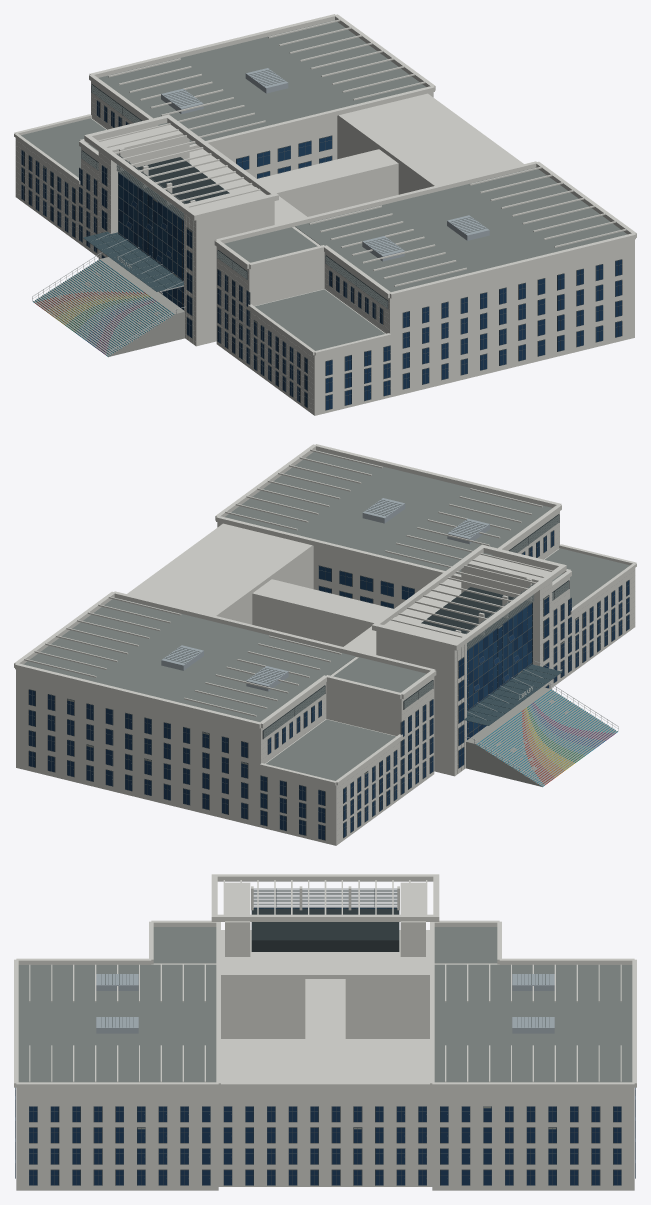
File: osm_way_223859810.glb
3 renders of one model, top to bottom at view 1: azimuth 30°, elevation 25°; view 2: azimuth 150°, elevation 25°; view 3: azimuth 270°, elevation 25°, orthographic. The views are drawn at different scales.
Parts seen in each view (by area): view 1: Library | stone wings and open crown, Library | blue curtain wall and opening lights, Library | 36 granite steps with painted risers, Library | continuous louvers frames and stone joints, EXTERIOR::osm_way_223859810::native pane seals and hardware; view 2: Library | stone wings and open crown, Library | blue curtain wall and opening lights, Library | 36 granite steps with painted risers, Library | continuous louvers frames and stone joints, EXTERIOR::osm_way_223859810::native pane seals and hardware; view 3: Library | stone wings and open crown, Library | blue curtain wall and opening lights, Library | continuous louvers frames and stone joints.
Boxes of the visible parts, x1,y1,x2,y2 form: Library | stone wings and open crown: [14, 14, 636, 415]; Library | blue curtain wall and opening lights: [21, 100, 622, 410]; Library | 36 granite steps with painted risers: [32, 252, 185, 357]; Library | continuous louvers frames and stone joints: [17, 84, 389, 402]; EXTERIOR::osm_way_223859810::native pane seals and hardware: [24, 156, 622, 405]; Library | stone wings and open crown: [14, 444, 636, 845]; Library | blue curtain wall and opening lights: [28, 530, 629, 840]; Library | 36 granite steps with painted risers: [465, 682, 618, 787]; Library | continuous louvers frames and stone joints: [261, 514, 633, 832]; EXTERIOR::osm_way_223859810::native pane seals and hardware: [28, 586, 622, 835]; Library | stone wings and open crown: [14, 874, 636, 1190]; Library | blue curtain wall and opening lights: [15, 907, 635, 1185]; Library | continuous louvers frames and stone joints: [253, 888, 397, 906].
Size of the model in its own units: 88.51 by 27.85 by 111.
